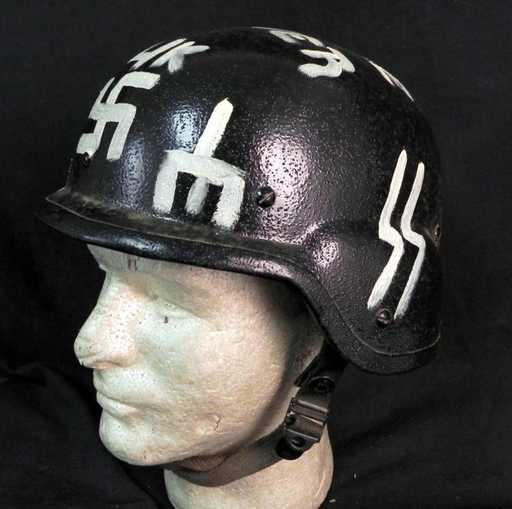with_helmet: (43, 14, 479, 490)
